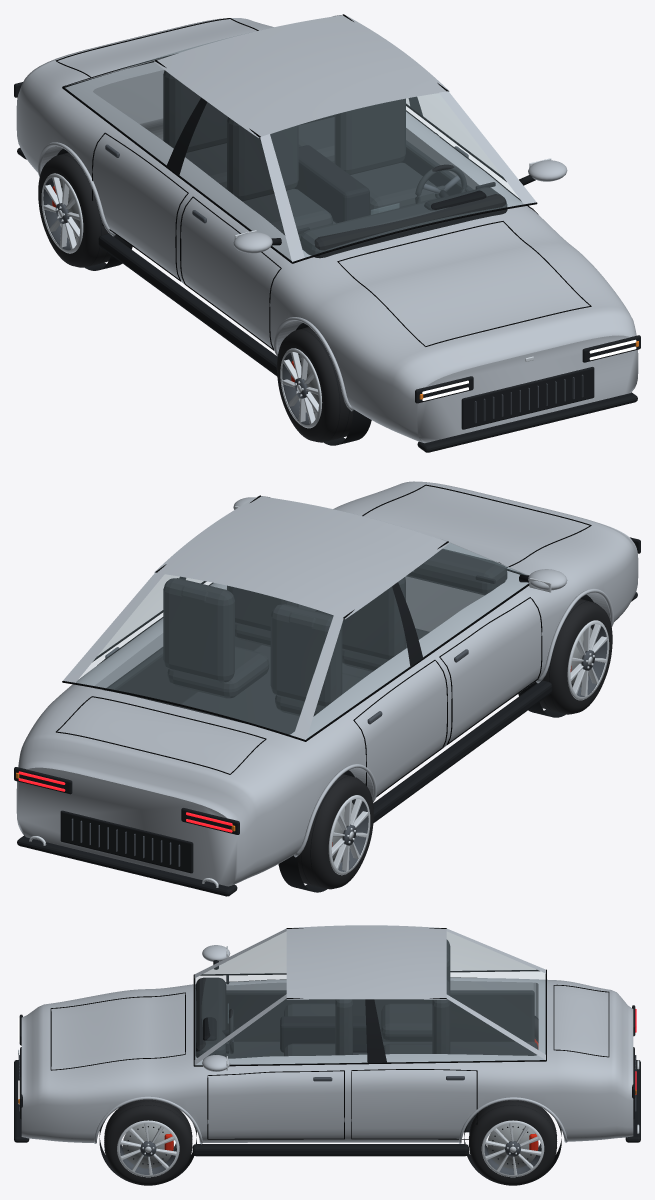
File: sedan.glb
The picture shows the model from 3 angles, top to bottom: view 1: azimuth 30°, elevation 25°; view 2: azimuth 150°, elevation 25°; view 3: azimuth 270°, elevation 25°; orthographic projection. The views are drawn at different scales.
Visible parts, largest first — view 1: Sculpted body shell.001, Windshield.001, Painted roof.001, Side glass.002, Interior dashboard.001, Interior seat back.003, Interior seat back.002, Front grille housing.001, Rocker aero sill.002, Tire.006, Interior centre console.001, Tire.004 (+27 smaller); view 2: Sculpted body shell.001, Rear glass.001, Painted roof.001, Side glass.002, Interior seat back.005, Interior seat back.004, Rear diffuser grille.001, Rocker aero sill.002, Tire.004, Interior cabin floor.001, Interior seat back.002, Tire.006 (+26 smaller); view 3: Sculpted body shell.001, Side glass.003, Painted roof.001, Interior door card.002, Rear glass.001, Windshield.001, Rocker aero sill.003, Tire.007, Tire.005, Side glass.002, Interior cabin floor.001, Interior centre console.001 (+29 smaller).
Part boxes in pixels (left/top/right/bottom): Sculpted body shell.001: left=16, top=18, right=638, bottom=443; Windshield.001: left=270, top=93, right=522, bottom=257; Painted roof.001: left=162, top=16, right=441, bottom=135; Side glass.002: left=65, top=62, right=290, bottom=259; Interior dashboard.001: left=300, top=187, right=507, bottom=258; Interior seat back.003: left=334, top=98, right=405, bottom=174; Interior seat back.002: left=227, top=117, right=298, bottom=201; Front grille housing.001: left=461, top=367, right=594, bottom=429; Rocker aero sill.002: left=98, top=233, right=277, bottom=376; Tire.006: left=277, top=327, right=353, bottom=442; Interior centre console.001: left=294, top=145, right=369, bottom=223; Tire.004: left=38, top=152, right=114, bottom=267; Sculpted body shell.001: left=16, top=481, right=638, bottom=886; Rear glass.001: left=76, top=574, right=332, bottom=735; Painted roof.001: left=162, top=497, right=441, bottom=616; Side glass.002: left=307, top=543, right=528, bottom=738; Interior seat back.005: left=163, top=578, right=234, bottom=682; Interior seat back.004: left=270, top=604, right=342, bottom=707; Rear diffuser grille.001: left=60, top=810, right=193, bottom=873; Rocker aero sill.002: left=373, top=680, right=552, bottom=823; Tire.004: left=297, top=774, right=373, bottom=889; Interior cabin floor.001: left=177, top=645, right=371, bottom=734; Interior seat back.002: left=342, top=577, right=405, bottom=661; Tire.006: left=536, top=599, right=612, bottom=714; Sculpted body shell.001: left=21, top=977, right=633, bottom=1142; Side glass.003: left=197, top=999, right=543, bottom=1064; Painted roof.001: left=286, top=925, right=446, bottom=998; Interior door card.002: left=226, top=990, right=534, bottom=1041; Rear glass.001: left=447, top=932, right=545, bottom=1053; Windshield.001: left=195, top=932, right=286, bottom=1058; Rocker aero sill.003: left=192, top=1144, right=468, bottom=1156; Tire.007: left=104, top=1099, right=192, bottom=1185; Tire.005: left=469, top=1100, right=557, bottom=1185; Side glass.002: left=205, top=932, right=535, bottom=973; Interior cabin floor.001: left=226, top=1041, right=537, bottom=1058; Interior centre console.001: left=280, top=1016, right=366, bottom=1052.
Bounding box in the file's own units: 2.27 × 1.56 × 4.9.
